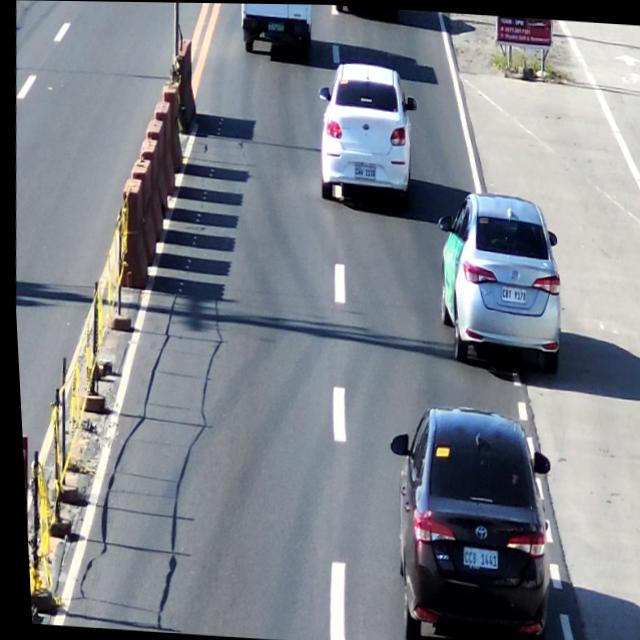Car: (383, 401, 552, 640), (426, 185, 572, 376), (309, 56, 422, 212), (237, 3, 315, 64)
License-Plate: (454, 535, 497, 576), (495, 280, 529, 306), (352, 161, 377, 183)
